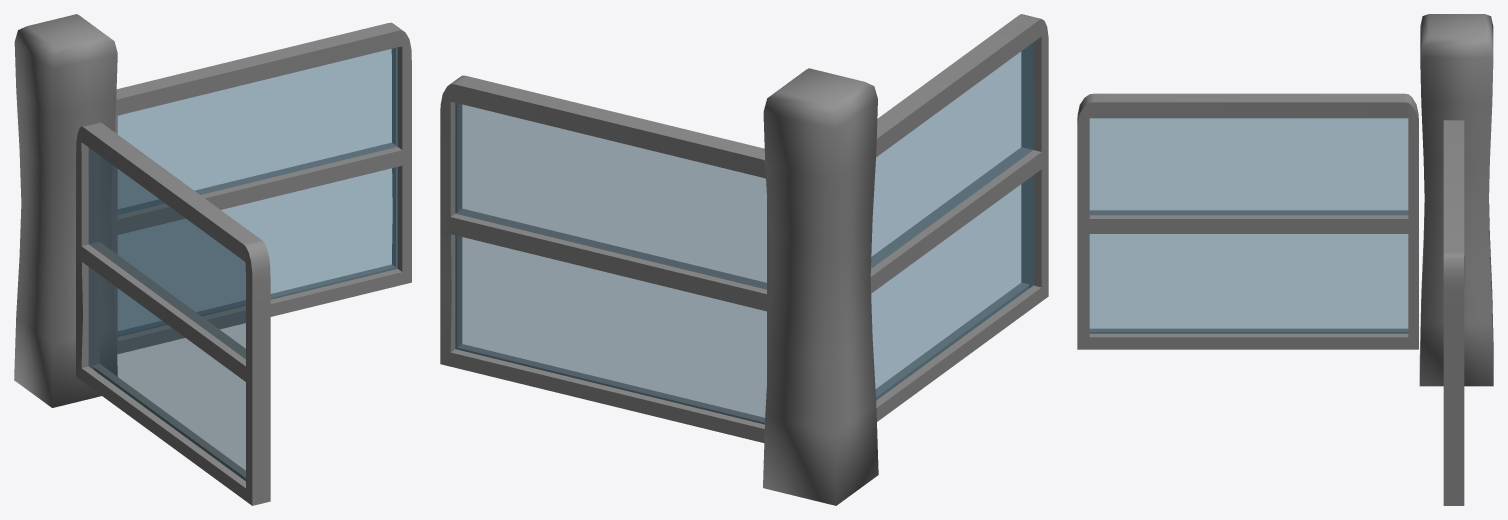
The model's file is GlassHalfWall_Corner_SplitBorder.glb.
3 views of the same model, side by side, from view 1: azimuth 30°, elevation 25°; view 2: azimuth 150°, elevation 25°; view 3: azimuth 270°, elevation 25° (orthographic). The views are drawn at different scales.
Visible parts, largest first — view 1: 5-StraightGlassBorder.005, 5-StraightGlassBorder.006, 3-PostNARROWER.002; view 2: 5-StraightGlassBorder.005, 5-StraightGlassBorder.006, 3-PostNARROWER.002; view 3: 5-StraightGlassBorder.006, 3-PostNARROWER.002, 5-StraightGlassBorder.005.
Part boxes in pixels (x1,y1,x2,y2): 5-StraightGlassBorder.005: (111, 22, 411, 354); 5-StraightGlassBorder.006: (76, 122, 270, 505); 3-PostNARROWER.002: (14, 14, 117, 407); 5-StraightGlassBorder.005: (440, 75, 770, 442); 5-StraightGlassBorder.006: (870, 14, 1048, 421); 3-PostNARROWER.002: (763, 68, 878, 505); 5-StraightGlassBorder.006: (1077, 93, 1418, 349); 3-PostNARROWER.002: (1419, 14, 1493, 386); 5-StraightGlassBorder.005: (1443, 120, 1464, 505).
Size of the model in its own units: 1.09 by 0.9929 by 1.09.
3 materials, 3 textured.
